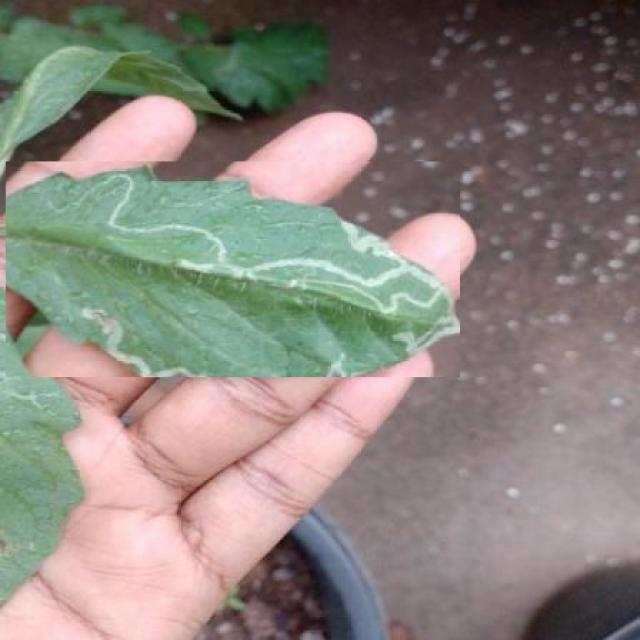Leaf Miner: (6, 162, 461, 377)
